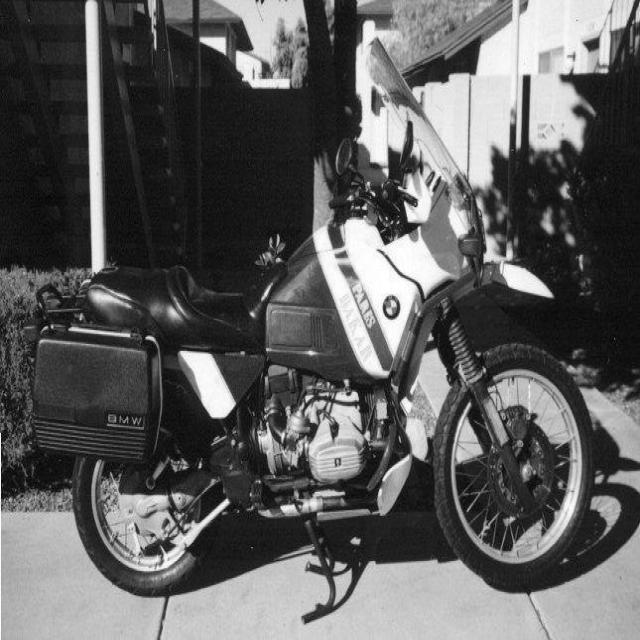Motorcycle: (28, 42, 592, 618)
